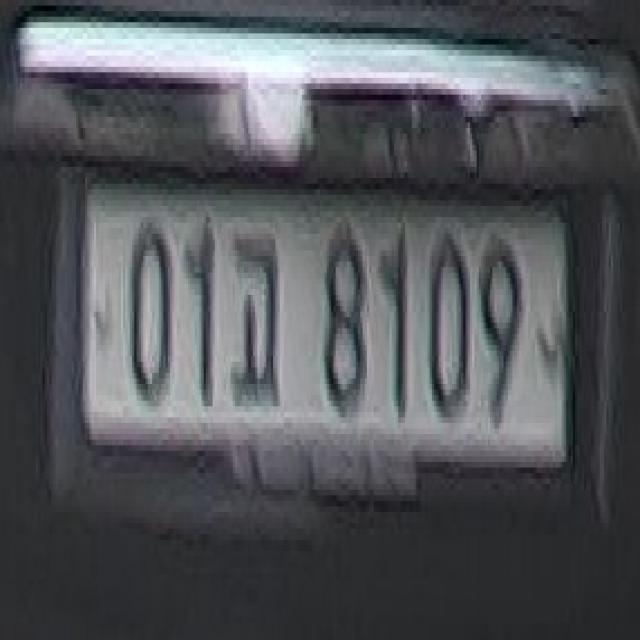0: (124, 209, 178, 417), (428, 227, 473, 436)
1: (374, 212, 422, 427), (182, 195, 218, 425)
8: (319, 198, 371, 418)
9: (474, 226, 528, 439)
go: (228, 224, 292, 414)
license_plate: (68, 162, 591, 488)
